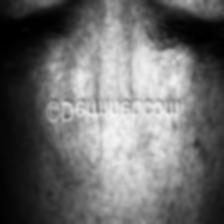Non-Cancerous Skin Condition: (32, 127, 216, 224), (68, 0, 140, 76)
